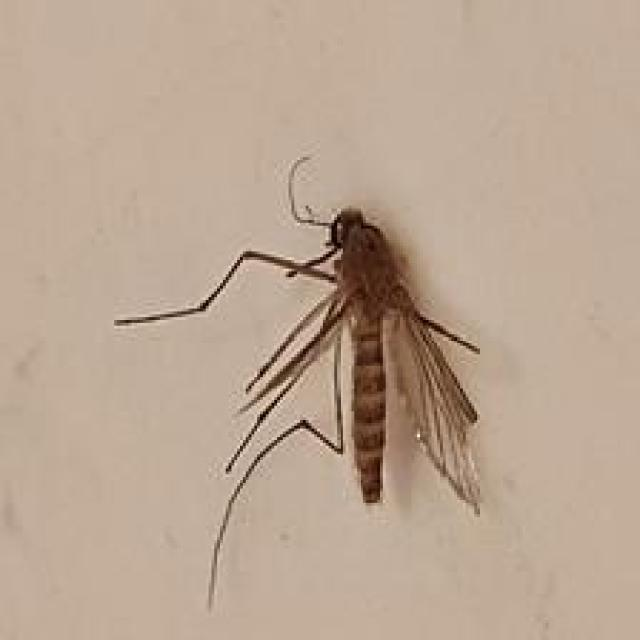Culex: (111, 153, 486, 610)
